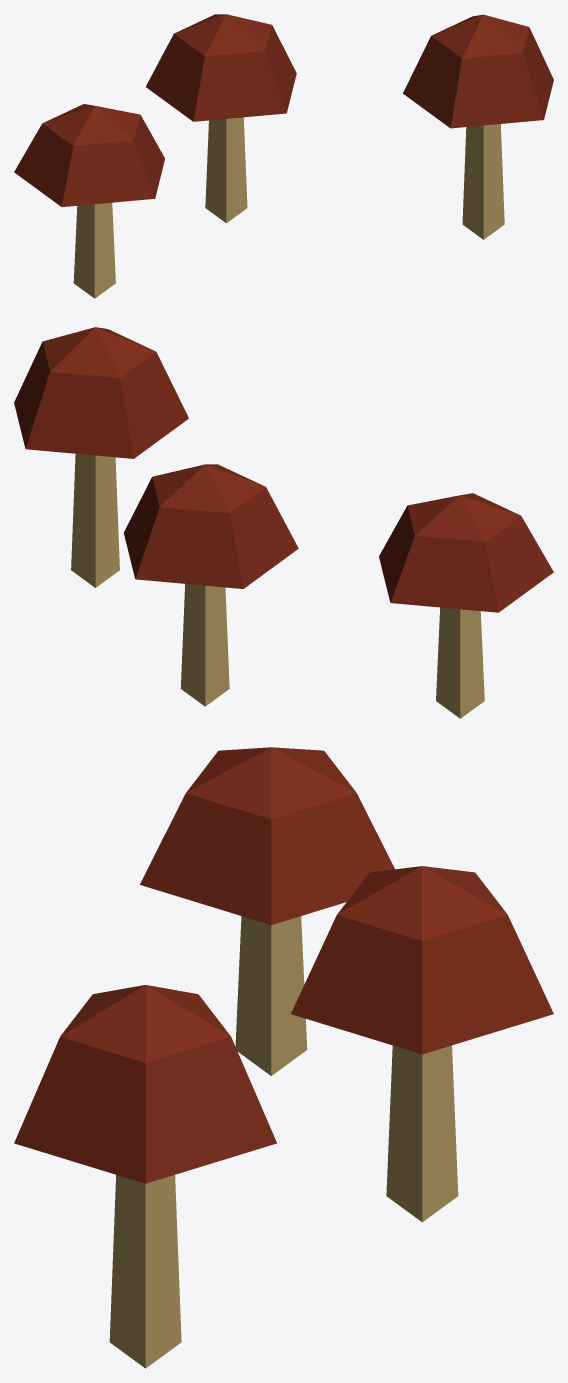
The model's file is Mushroom_Cluster_01.fbx.
The picture shows the model from 3 angles, top to bottom: view 1: azimuth 30°, elevation 25°; view 2: azimuth 150°, elevation 25°; view 3: azimuth 270°, elevation 25°; orthographic projection. The views are drawn at different scales.
Parts seen in each view (by area): view 1: Mushroom_Cluster_01_Mesh; view 2: Mushroom_Cluster_01_Mesh; view 3: Mushroom_Cluster_01_Mesh.
Part boxes in pixels (x1,y1,x2,y2): Mushroom_Cluster_01_Mesh: (14,14,553,298); Mushroom_Cluster_01_Mesh: (14,327,553,718); Mushroom_Cluster_01_Mesh: (14,747,553,1368).
Bounding box in the file's own units: 0.5107 × 0.219 × 0.2926.
1 material, 1 textured.
